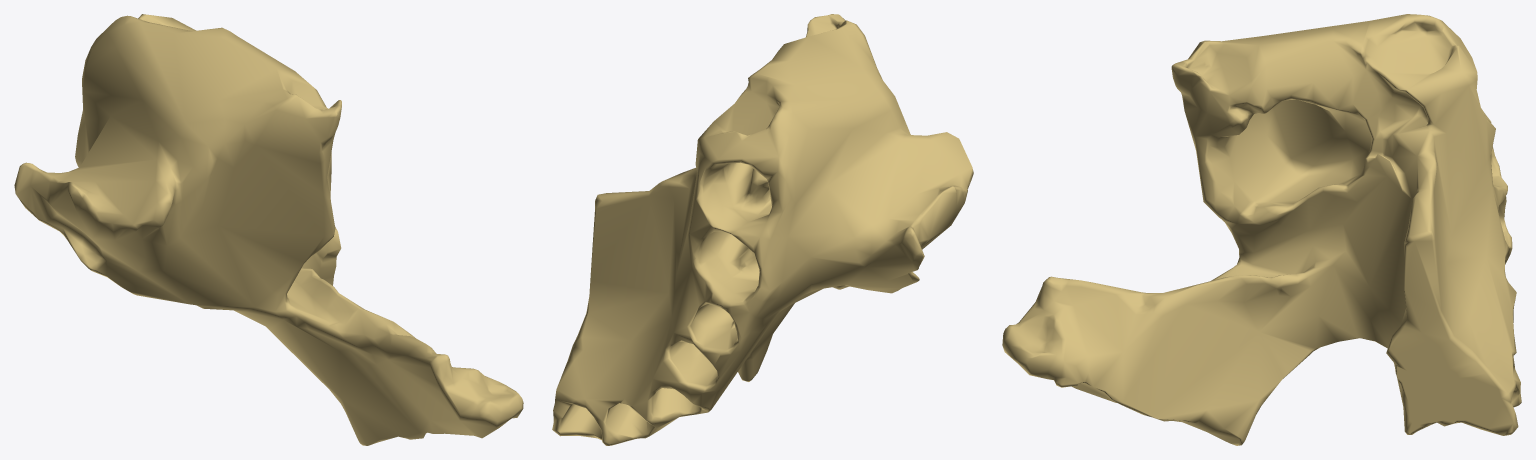
The picture shows the model from 3 angles, left to right: view 1: azimuth 30°, elevation 25°; view 2: azimuth 150°, elevation 25°; view 3: azimuth 270°, elevation 25°; orthographic projection. The views are drawn at different scales.
Visible parts, largest first — view 1: 右侧上颌骨; view 2: 右侧上颌骨; view 3: 右侧上颌骨.
Part boxes in pixels (x1,y1,x2,y2): 右侧上颌骨: (14,14,523,445); 右侧上颌骨: (552,14,973,445); 右侧上颌骨: (1002,14,1521,445).
Size of the model in its own units: 0.0681 by 0.0793 by 0.0999.
